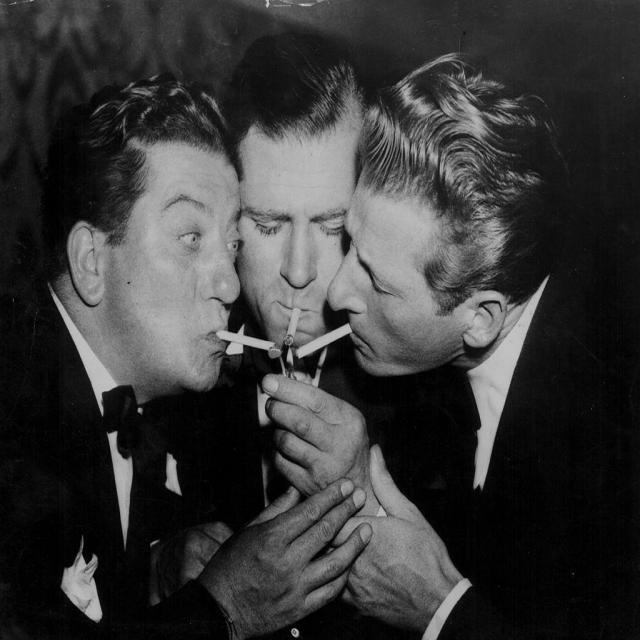cigarette: (213, 306, 372, 386)
